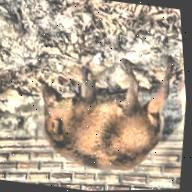boar: (26, 39, 185, 181)
